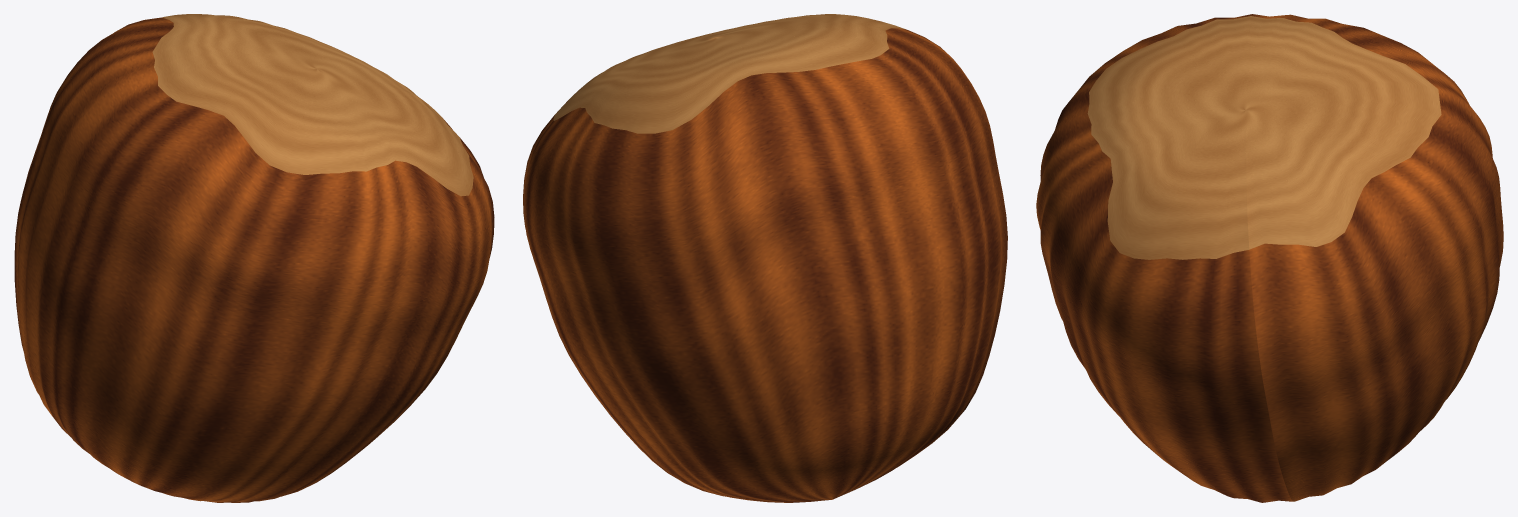
Rendered from hazelnut.glb.
The picture shows the model from 3 angles, left to right: view 1: azimuth 30°, elevation 25°; view 2: azimuth 150°, elevation 25°; view 3: azimuth 270°, elevation 25°; orthographic projection. The views are drawn at different scales.
Visible parts, largest first — view 1: hazelnut-mesh; view 2: hazelnut-mesh; view 3: hazelnut-mesh.
Boxes of the visible parts, x1=… form: hazelnut-mesh: x1=14, y1=14, x2=494, y2=502; hazelnut-mesh: x1=523, y1=14, x2=1007, y2=502; hazelnut-mesh: x1=1036, y1=14, x2=1503, y2=502.
Size of the model in its own units: 0.0544 by 0.0545 by 0.0536.
Materials: 2 (2 with a texture image).
